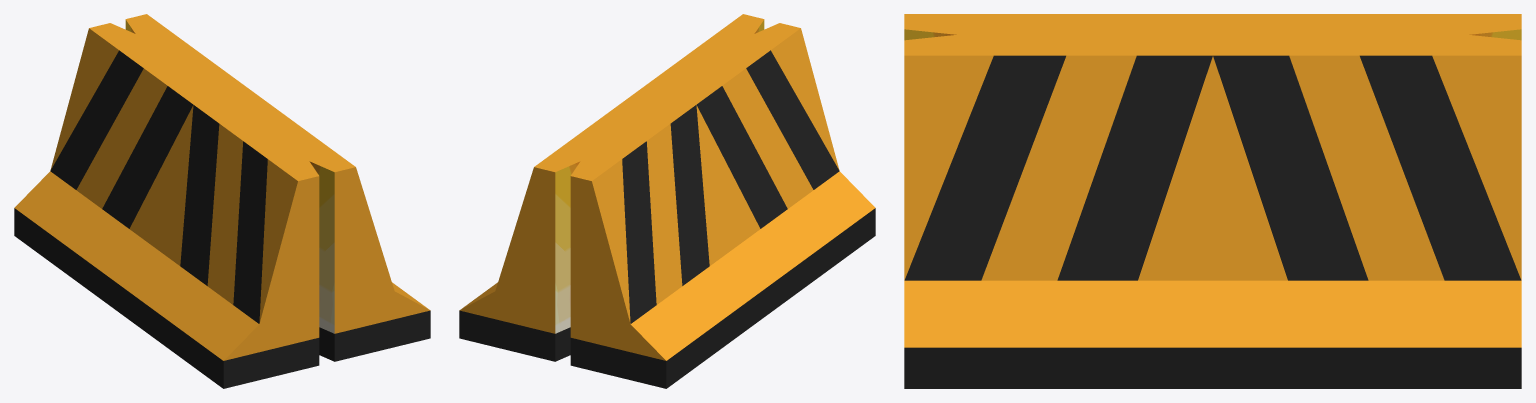
The model's file is Barrier.fbx.
3 renders of one model, left to right at view 1: azimuth 30°, elevation 25°; view 2: azimuth 150°, elevation 25°; view 3: azimuth 270°, elevation 25°, orthographic. The views are drawn at different scales.
Parts seen in each view (by area): view 1: Cube; view 2: Cube; view 3: Cube.
Boxes of the visible parts, x1,y1,x2,y2 form: Cube: (14,14,430,388); Cube: (459,14,875,388); Cube: (904,14,1521,388).
Size of the model in its own units: 229 by 200 by 400.
